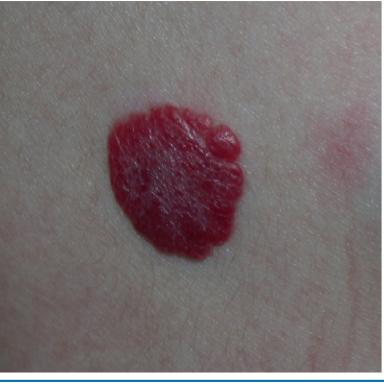Hemangiome: (108, 105, 244, 258)
